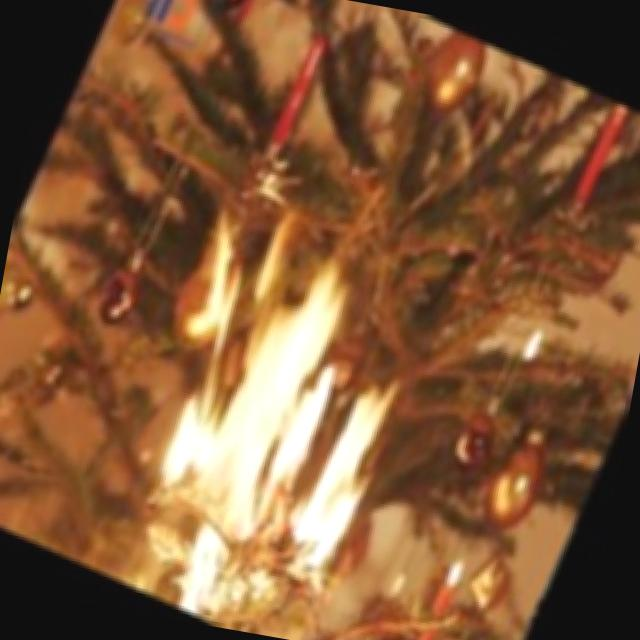fire: (96, 180, 467, 578)
